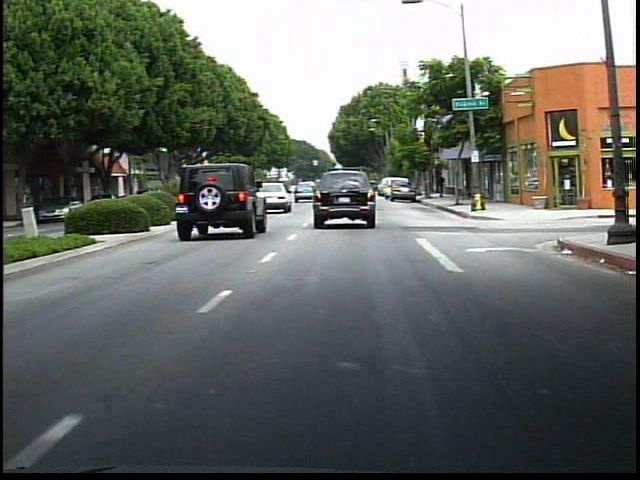person: (432, 166, 452, 202)
